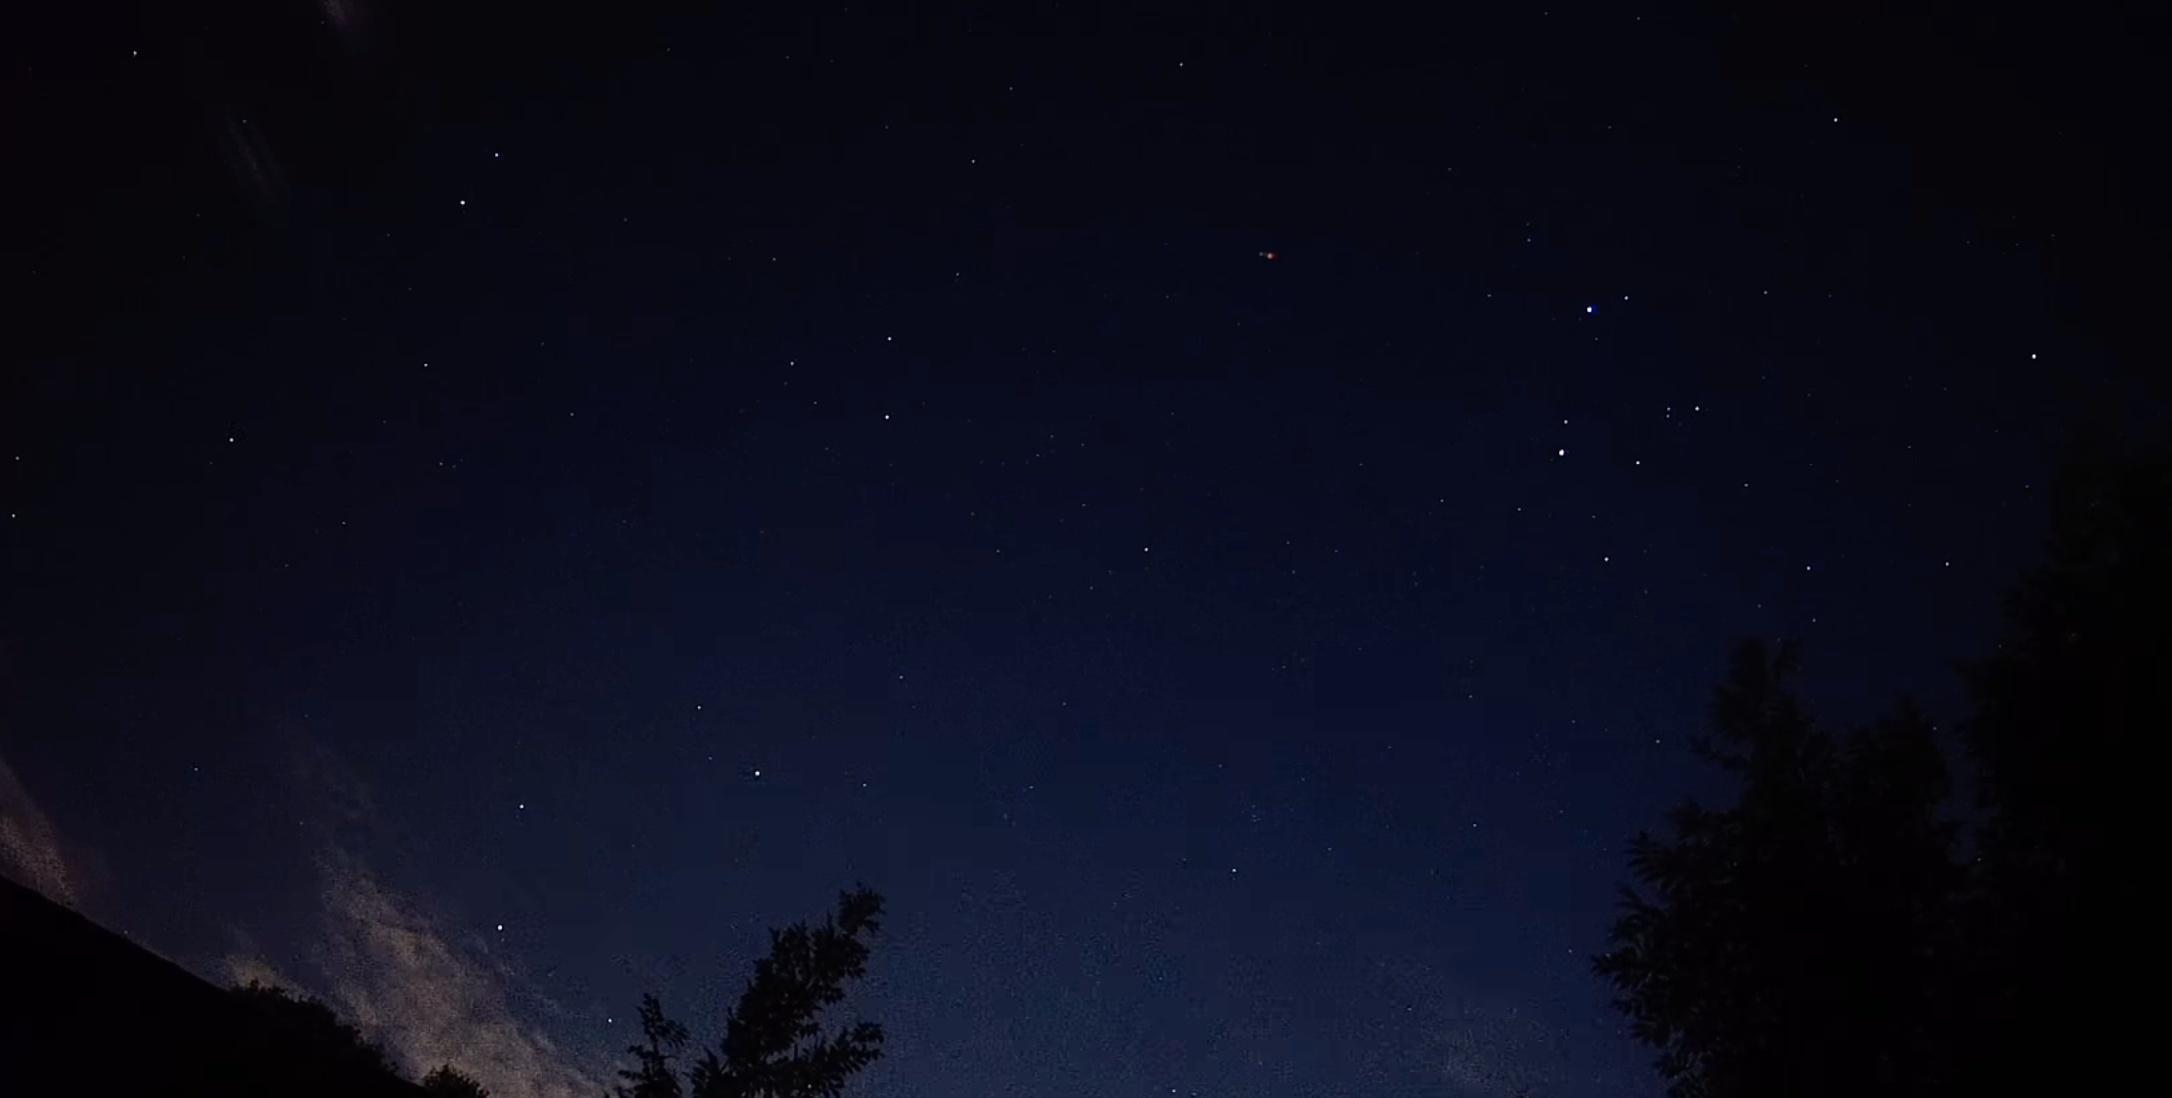Plane: (1230, 241, 1301, 272)
